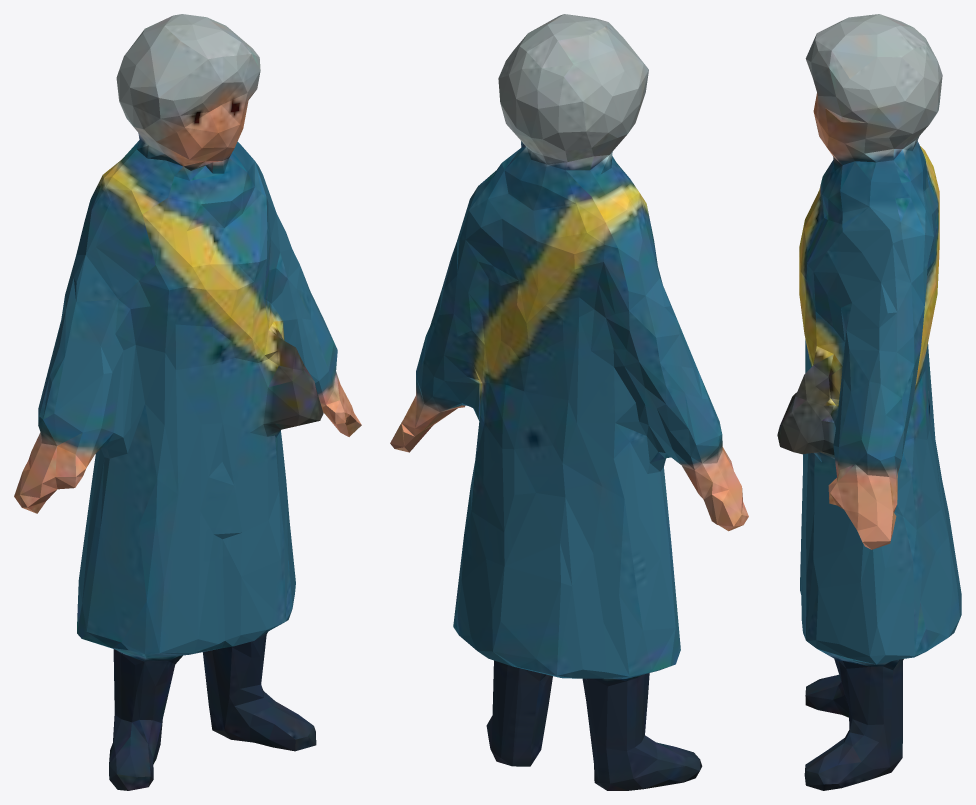
The model's file is habitant-loin.glb.
The picture shows the model from 3 angles, left to right: view 1: azimuth 30°, elevation 25°; view 2: azimuth 150°, elevation 25°; view 3: azimuth 270°, elevation 25°; orthographic projection. The views are drawn at different scales.
Parts seen in each view (by area): view 1: habitant; view 2: habitant; view 3: habitant.
Part boxes in pixels (left/top/right/bottom): habitant: left=14, top=14, right=361, bottom=790; habitant: left=390, top=14, right=748, bottom=790; habitant: left=777, top=14, right=961, bottom=790.
Bounding box in the file's own units: 0.488 × 1.01 × 0.2336.
Materials: 1 (1 with a texture image).
